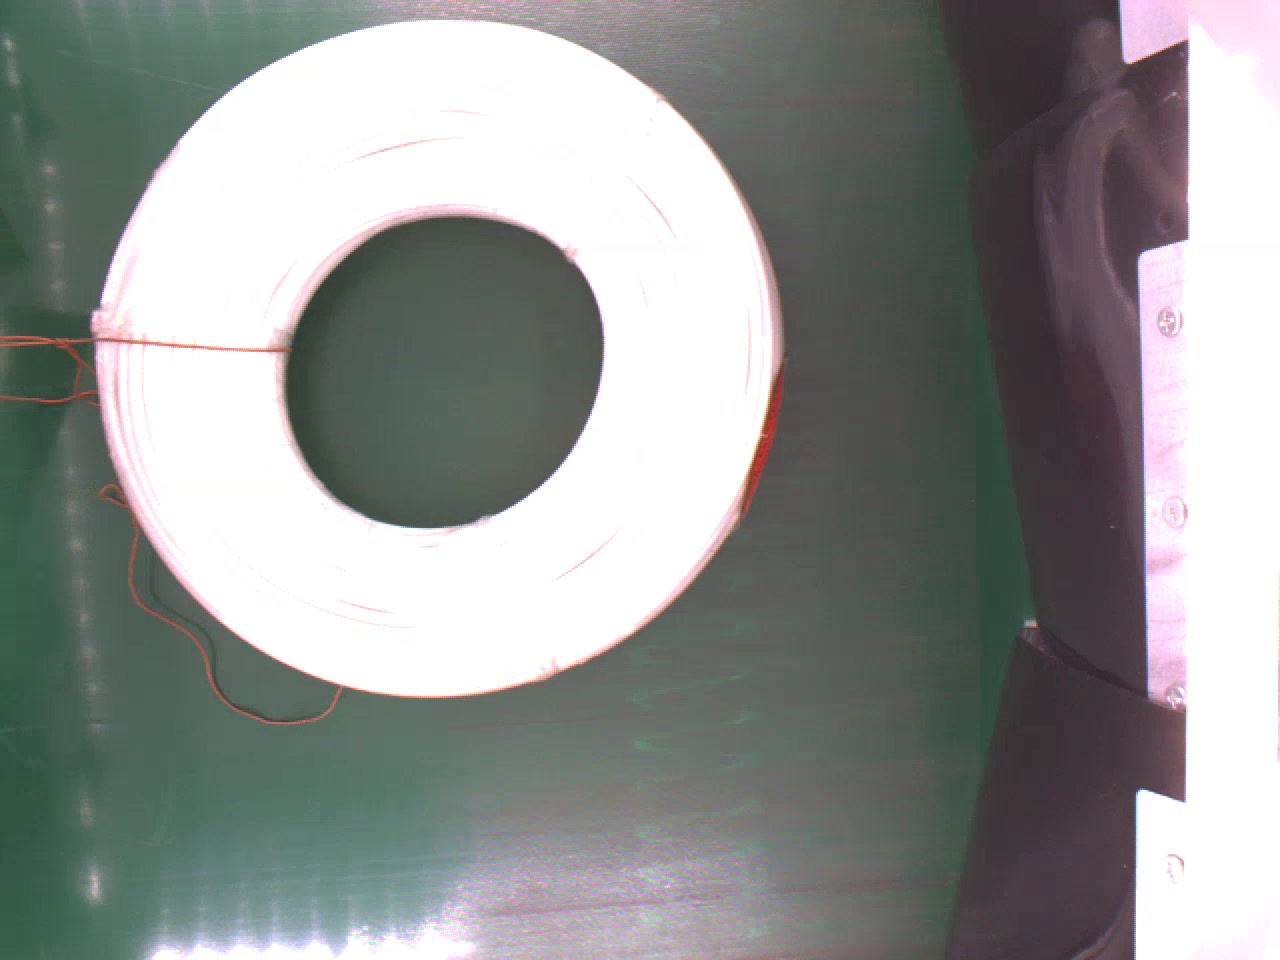white: (85, 18, 794, 699)
